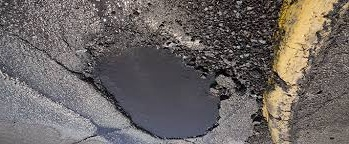pothole: (79, 34, 237, 143)
